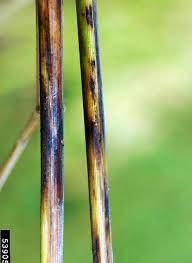Stem Rot: (36, 0, 67, 263), (85, 114, 116, 263), (81, 58, 104, 108), (79, 0, 97, 42)
